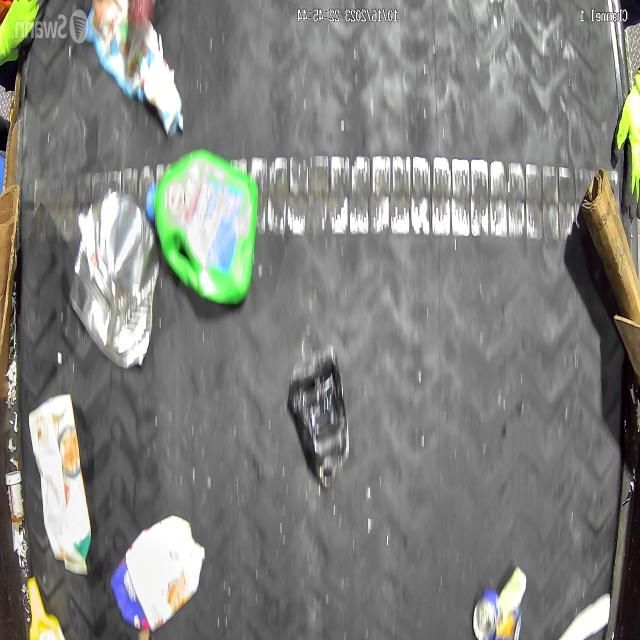can: (67, 192, 158, 370), (472, 586, 522, 640)
non_white_jug: (152, 151, 256, 306), (29, 392, 91, 576), (110, 515, 205, 632)
